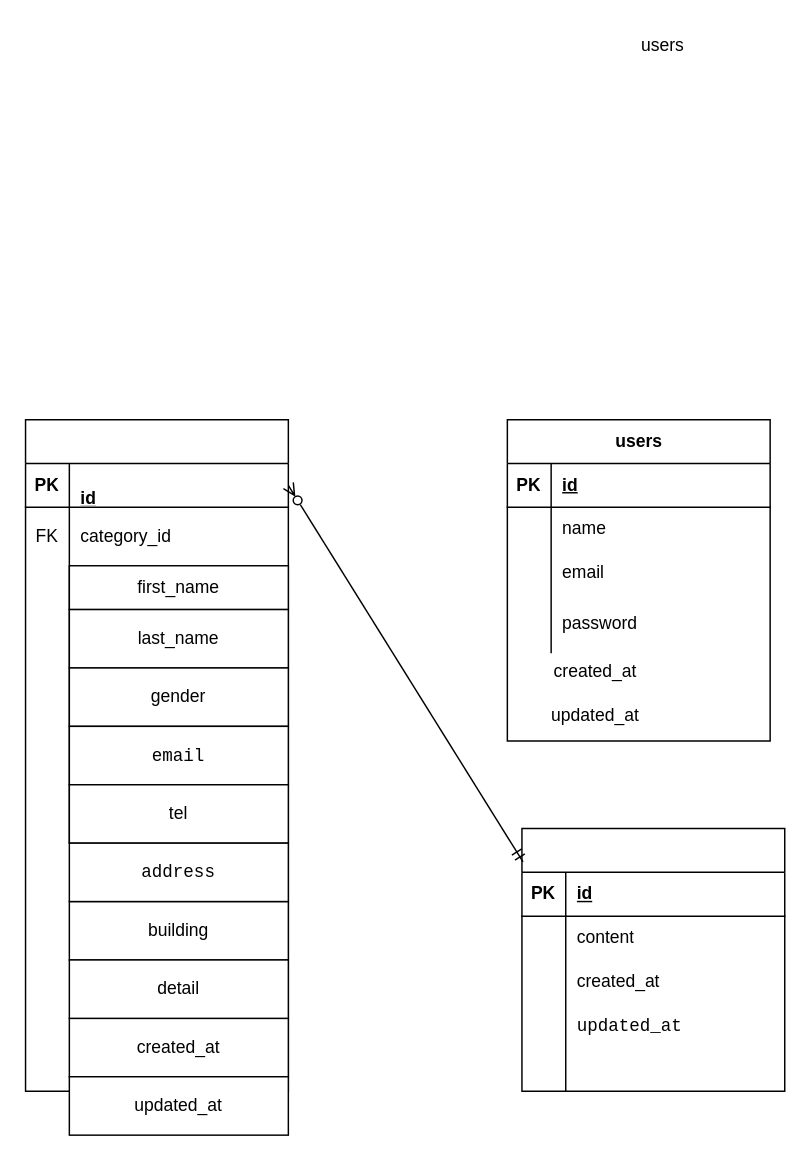
The diagram is 810 pixels wide and 1161 high, and some of its shapes have lost their labels. Here are the shapes that lost their labels. From the top down, the box of each, then its label:
(24, 418, 288, 1091): contacts
(520, 827, 785, 1091): categories
